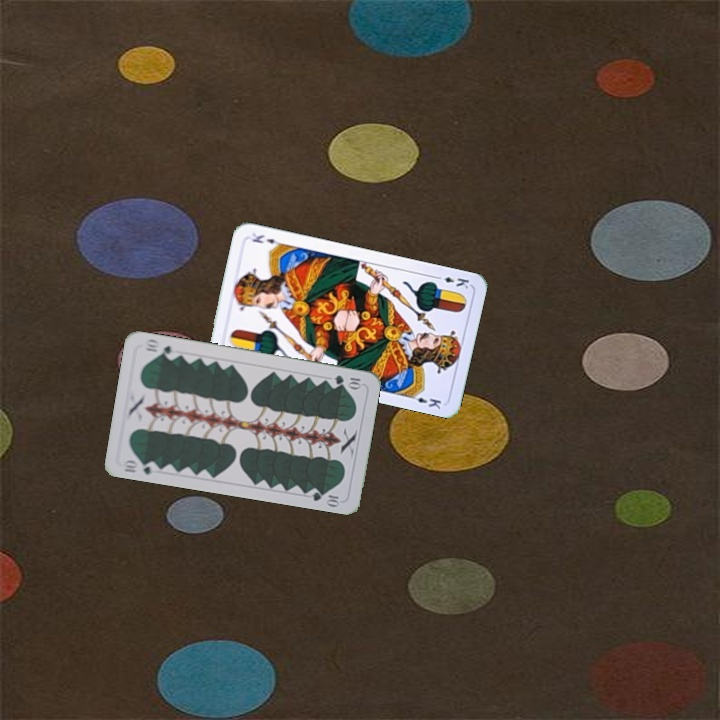EK: (431, 272, 471, 291)
G10: (119, 456, 160, 477), (331, 371, 365, 390)
